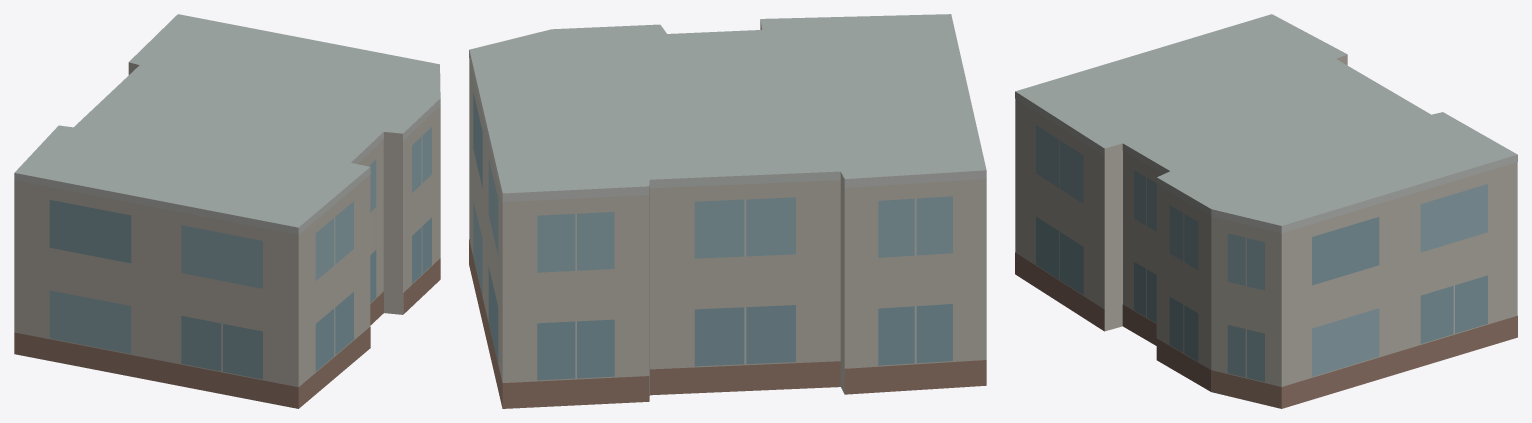
File: survey-upis-32671421.glb
3 renders of one model, left to right at view 1: azimuth 30°, elevation 25°; view 2: azimuth 150°, elevation 25°; view 3: azimuth 270°, elevation 25°, orthographic. The views are drawn at different scales.
Parts seen in each view (by area): view 1: survey-upis-32671421.tmp; view 2: survey-upis-32671421.tmp; view 3: survey-upis-32671421.tmp.
Boxes of the visible parts, box(x1,y1,x2,y2) form: survey-upis-32671421.tmp: box(14, 14, 440, 408); survey-upis-32671421.tmp: box(469, 14, 986, 408); survey-upis-32671421.tmp: box(1015, 14, 1517, 408).
Bounding box in the file's own units: 15.17 × 6.1 × 15.2.
